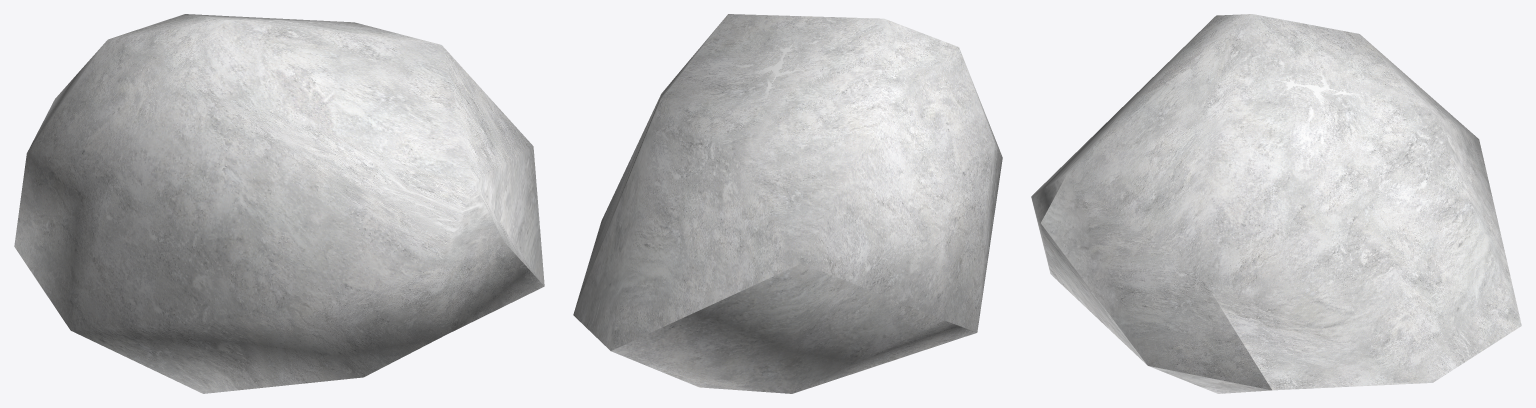
File: rock_00G_lp.fbx
3 renders of one model, left to right at view 1: azimuth 30°, elevation 25°; view 2: azimuth 150°, elevation 25°; view 3: azimuth 270°, elevation 25°, orthographic. The views are drawn at different scales.
Visible parts, largest first — view 1: rock_00G_lp; view 2: rock_00G_lp; view 3: rock_00G_lp.
Part boxes in pixels (bbox=[...]): rock_00G_lp: bbox=[14, 14, 544, 393]; rock_00G_lp: bbox=[573, 14, 1002, 393]; rock_00G_lp: bbox=[1031, 14, 1521, 393].
Size of the model in its own units: 198 by 161 by 222.
